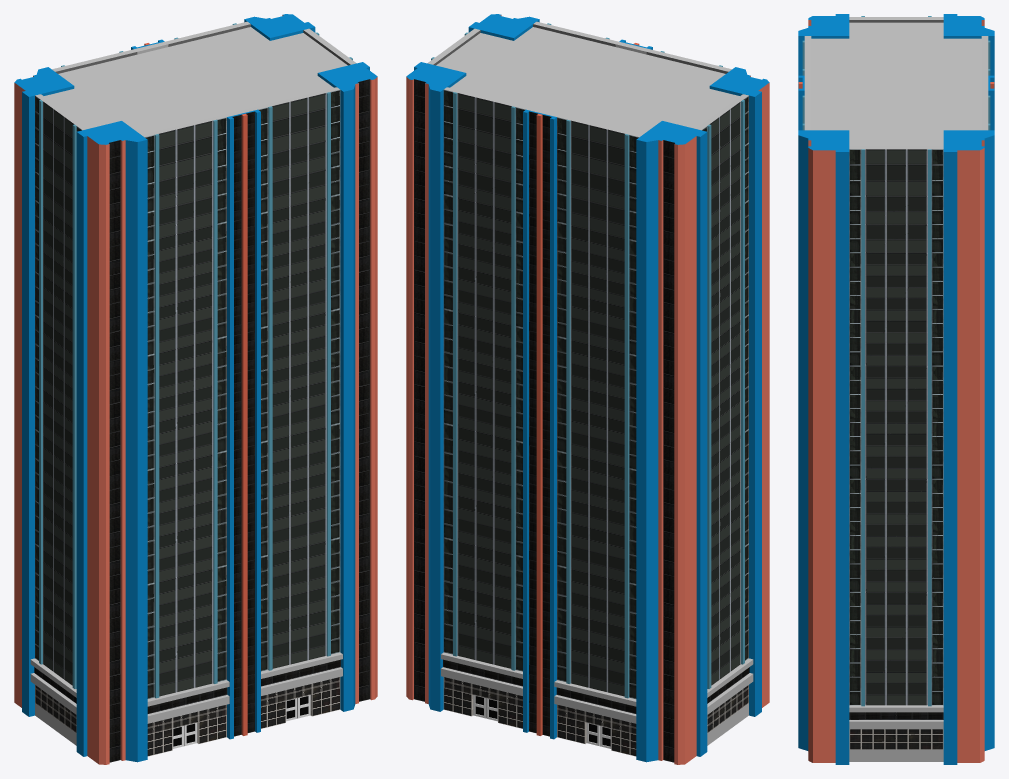
The picture shows the model from 3 angles, left to right: view 1: azimuth 30°, elevation 25°; view 2: azimuth 150°, elevation 25°; view 3: azimuth 270°, elevation 25°; orthographic projection.
Parts seen in each view (by area): view 1: Building; view 2: Building; view 3: Building.
Part boxes in pixels (x1=…): Building: x1=14, y1=14, x2=377, y2=764; Building: x1=406, y1=14, x2=769, y2=764; Building: x1=798, y1=14, x2=994, y2=764.
Size of what is drawn, in the model's own units: 31.42 by 65 by 18.86.
